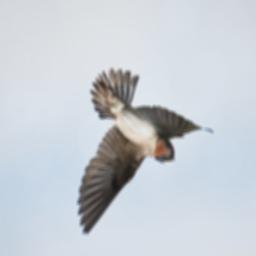Swallow: (75, 64, 215, 238)
